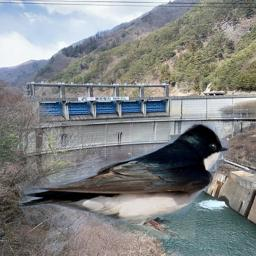Swallow: (19, 123, 228, 239)
